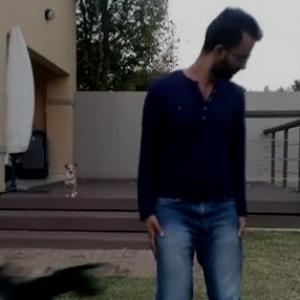follow: (1, 0, 169, 299), (141, 0, 259, 296)
